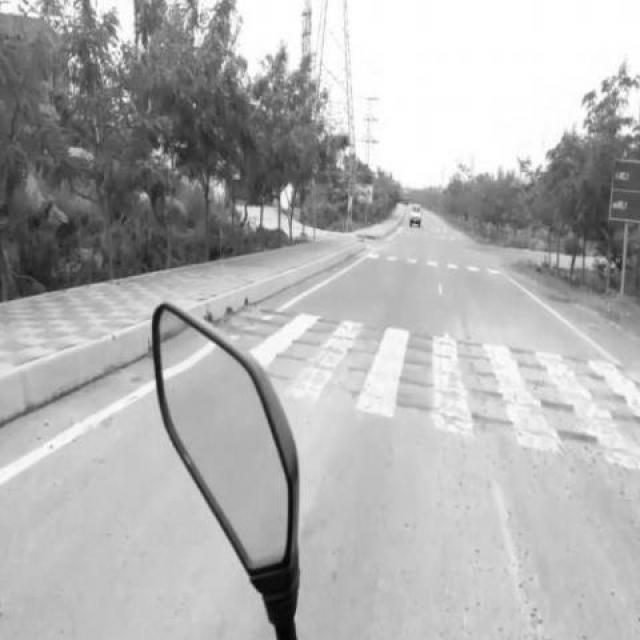Speed Bump: (300, 373, 639, 472), (296, 341, 639, 432), (312, 314, 627, 357), (298, 355, 638, 373)
